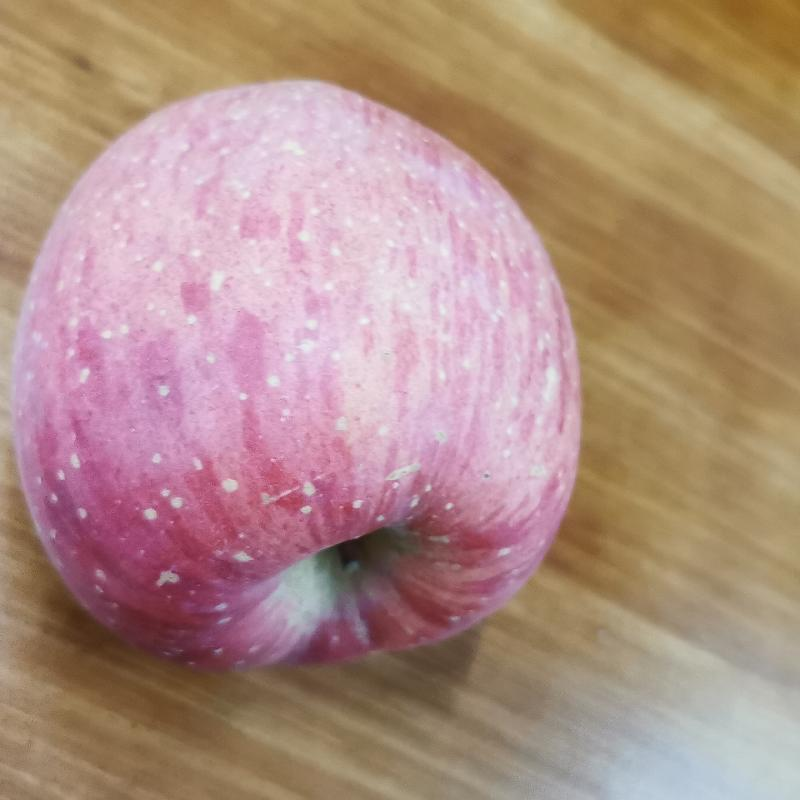apples: (6, 67, 581, 680)
